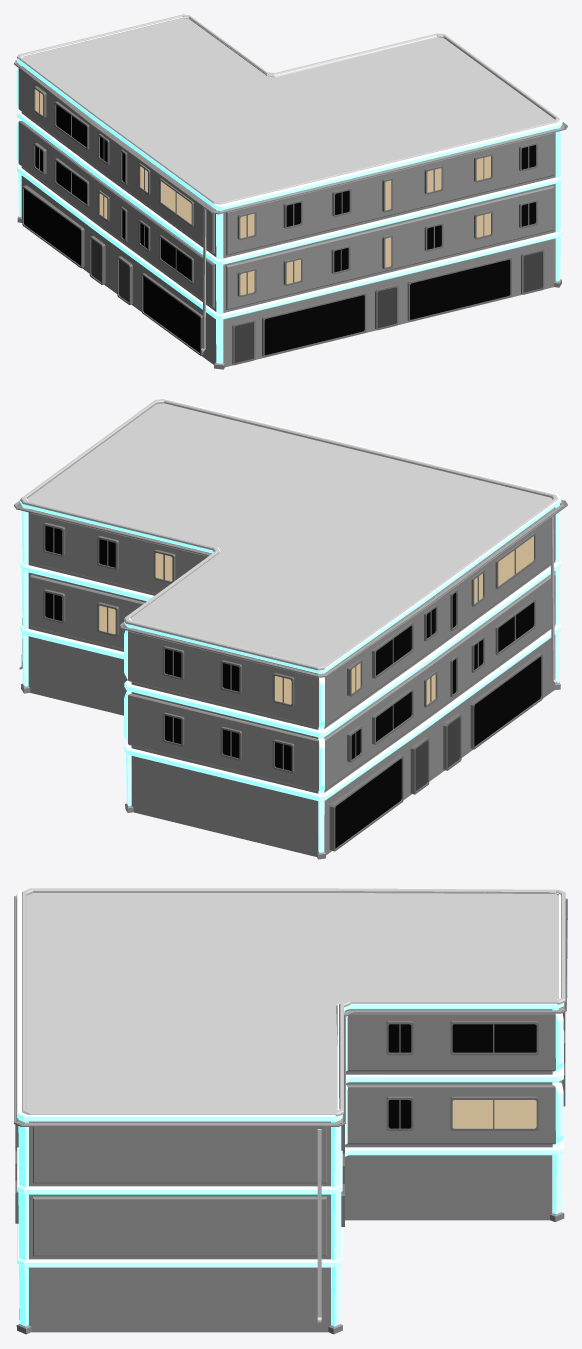
The model's file is Building_Big_Corner_0_Size_1.fbx.
The picture shows the model from 3 angles, top to bottom: view 1: azimuth 30°, elevation 25°; view 2: azimuth 150°, elevation 25°; view 3: azimuth 270°, elevation 25°; orthographic projection. The views are drawn at different scales.
Parts seen in each view (by area): view 1: Building_Big_Corner_0_Size_1; view 2: Building_Big_Corner_0_Size_1; view 3: Building_Big_Corner_0_Size_1.
Part boxes in pixels (x1=…): Building_Big_Corner_0_Size_1: x1=14, y1=14, x2=567, y2=369; Building_Big_Corner_0_Size_1: x1=14, y1=398, x2=567, y2=859; Building_Big_Corner_0_Size_1: x1=14, y1=888, x2=567, y2=1334.
Size of the model in its own units: 2625 by 1157 by 2636.
